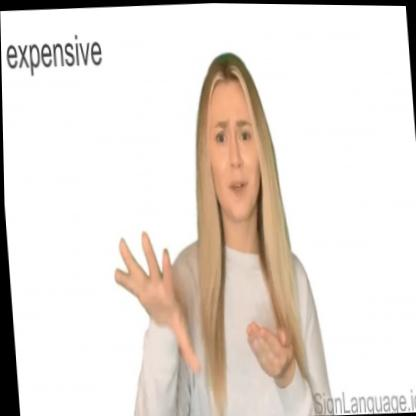Expensive: (102, 205, 296, 410)
